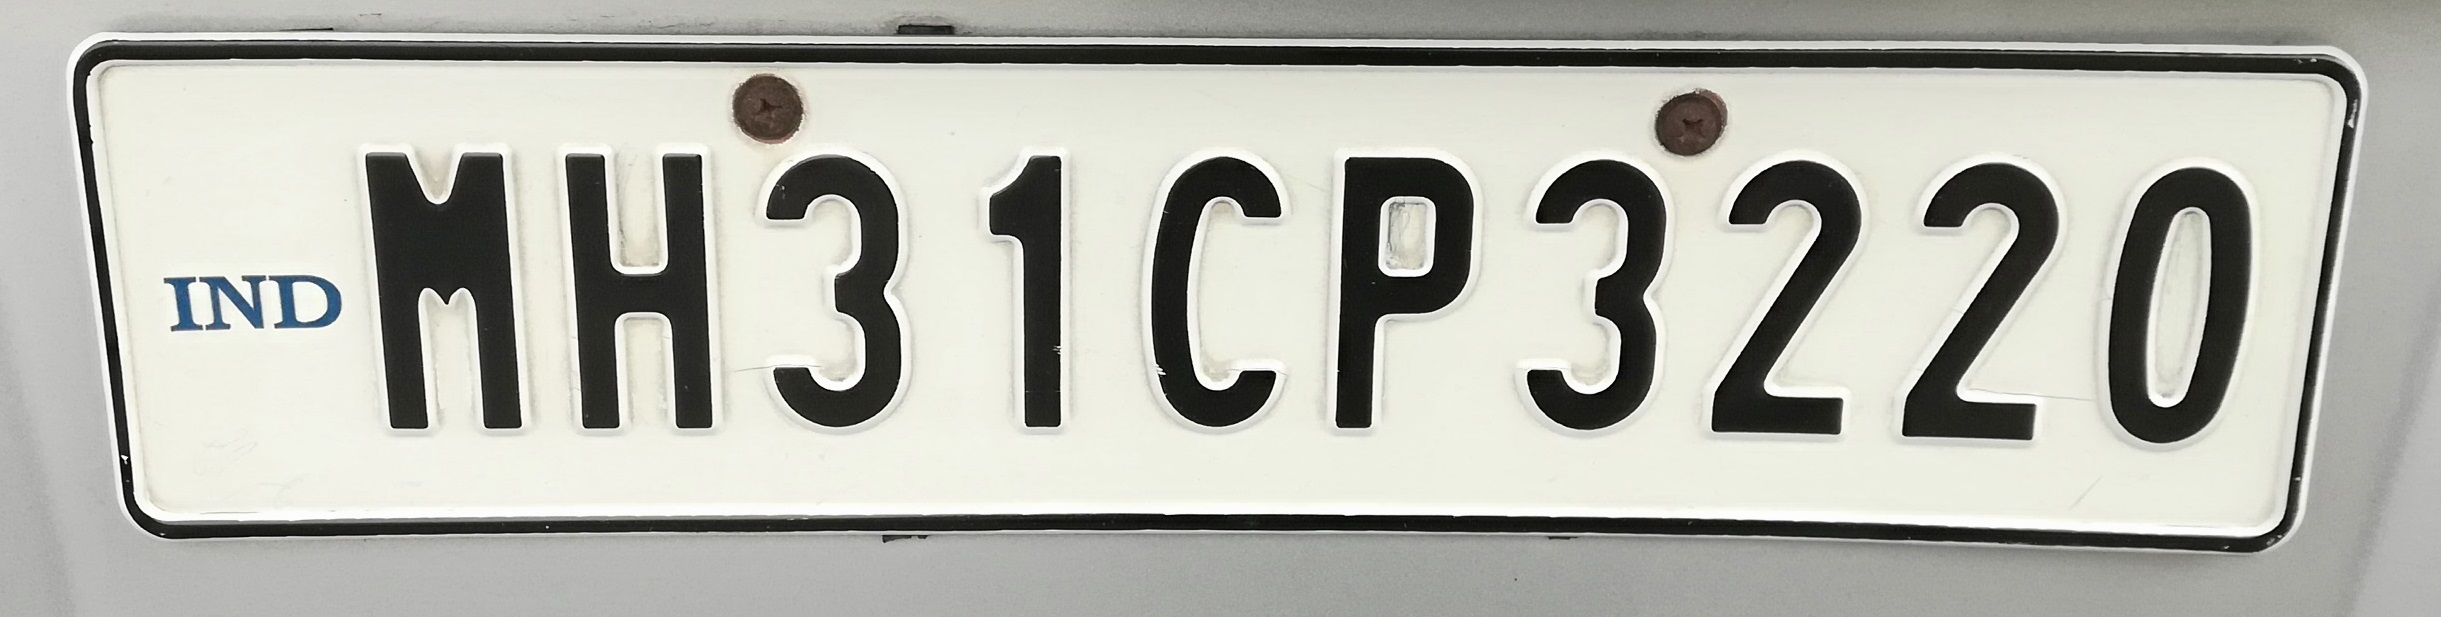numberplate: (65, 29, 2365, 567)
